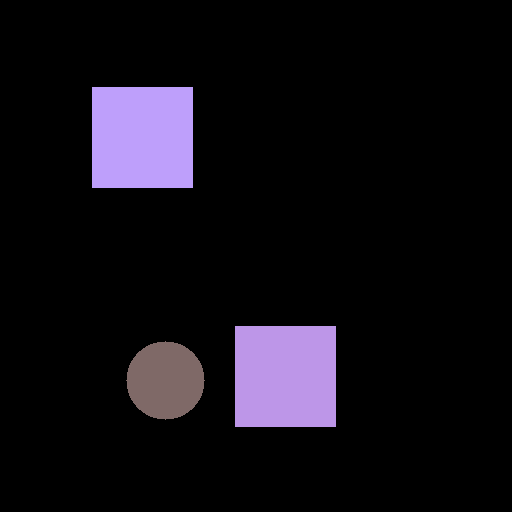circle: (126, 341, 204, 419)
square: (235, 326, 335, 426), (92, 87, 192, 187)
